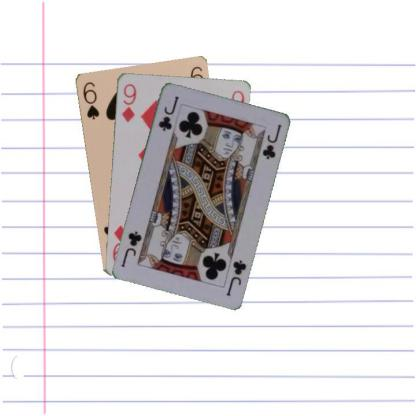6s: (80, 78, 100, 121)
9d: (119, 81, 138, 123)
Jc: (155, 93, 180, 132), (223, 257, 247, 297)
